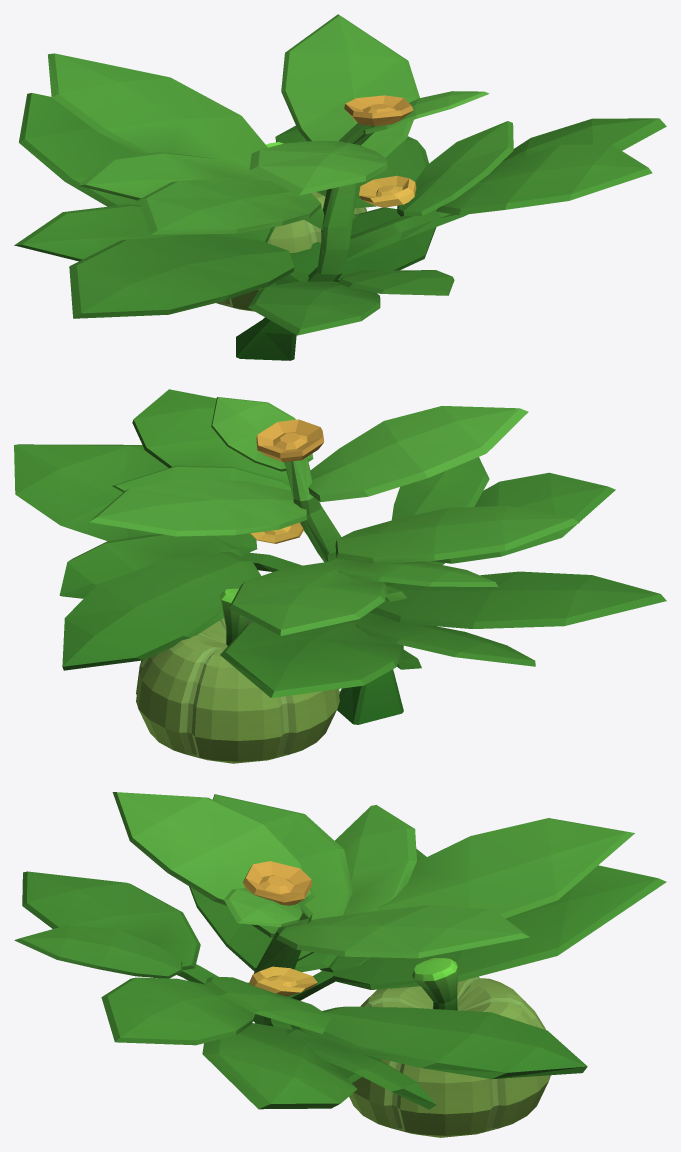
The model's file is crop_pumpkin_stage2.glb.
The picture shows the model from 3 angles, top to bottom: view 1: azimuth 30°, elevation 25°; view 2: azimuth 150°, elevation 25°; view 3: azimuth 270°, elevation 25°; orthographic projection. The views are drawn at different scales.
Parts seen in each view (by area): view 1: crop_pumpkin_stage2; view 2: crop_pumpkin_stage2; view 3: crop_pumpkin_stage2.
Part boxes in pixels (x1=…): crop_pumpkin_stage2: x1=14, y1=14, x2=666, y2=360; crop_pumpkin_stage2: x1=14, y1=389, x2=666, y2=763; crop_pumpkin_stage2: x1=14, y1=792, x2=666, y2=1137.
Bounding box in the file's own units: 0.64 × 0.24 × 0.5566.
Materials: 1 (1 with a texture image).
